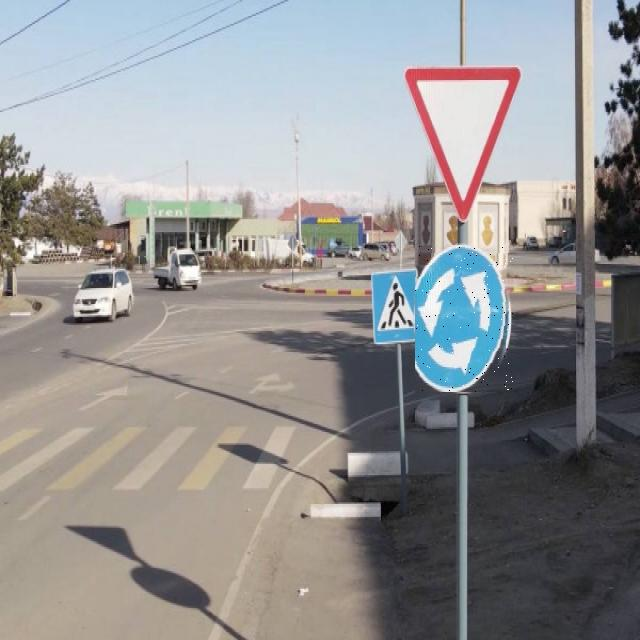roundabout: (415, 246, 514, 392)
